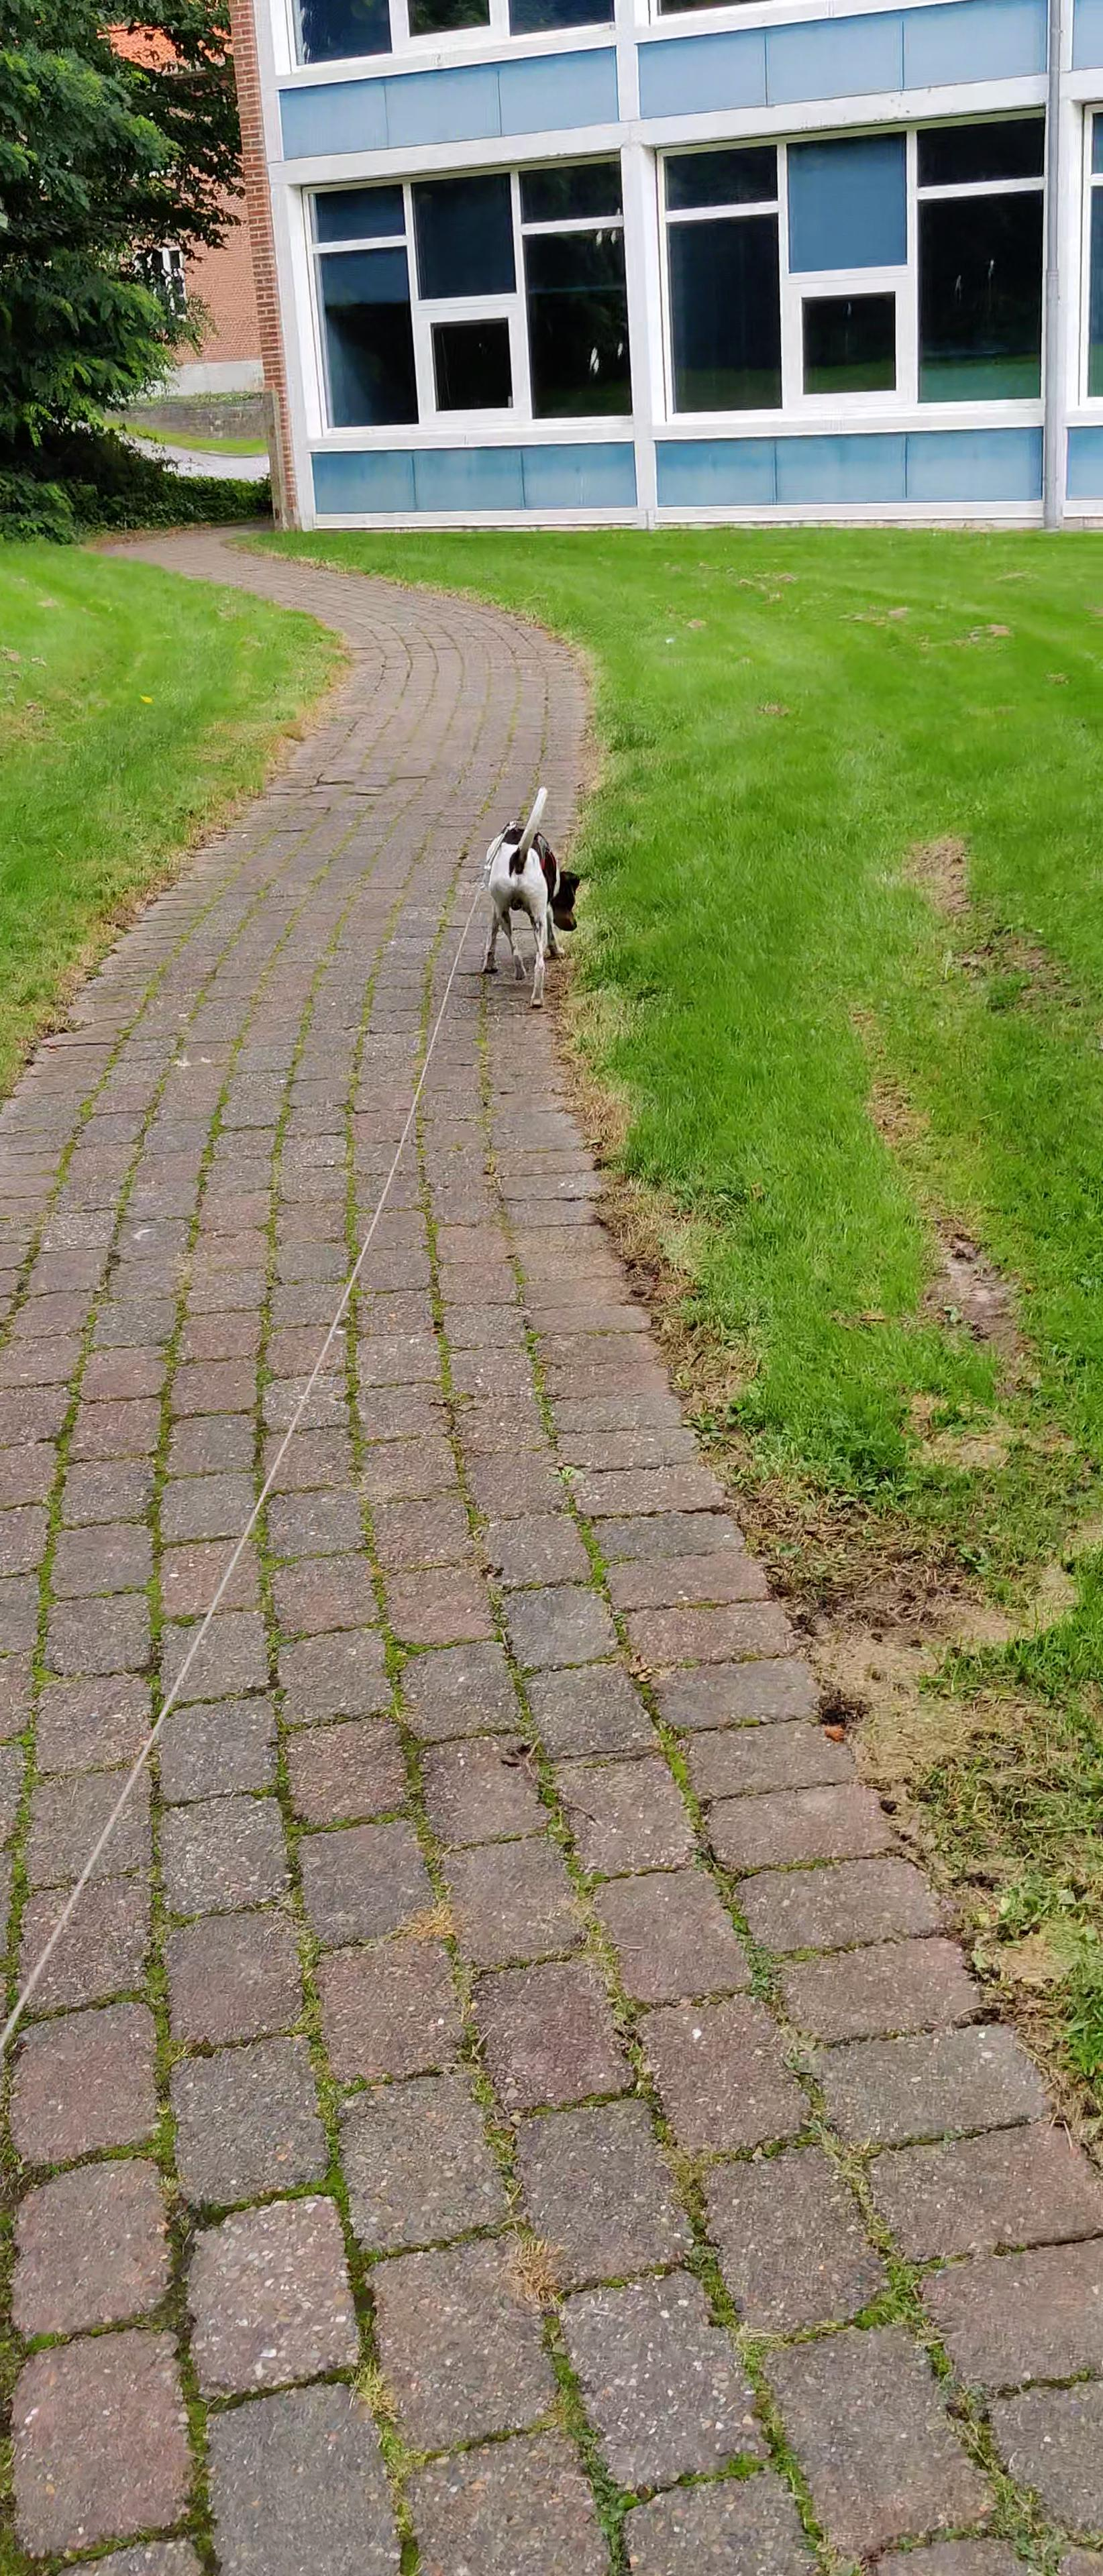Dog: (477, 785, 584, 1009)
